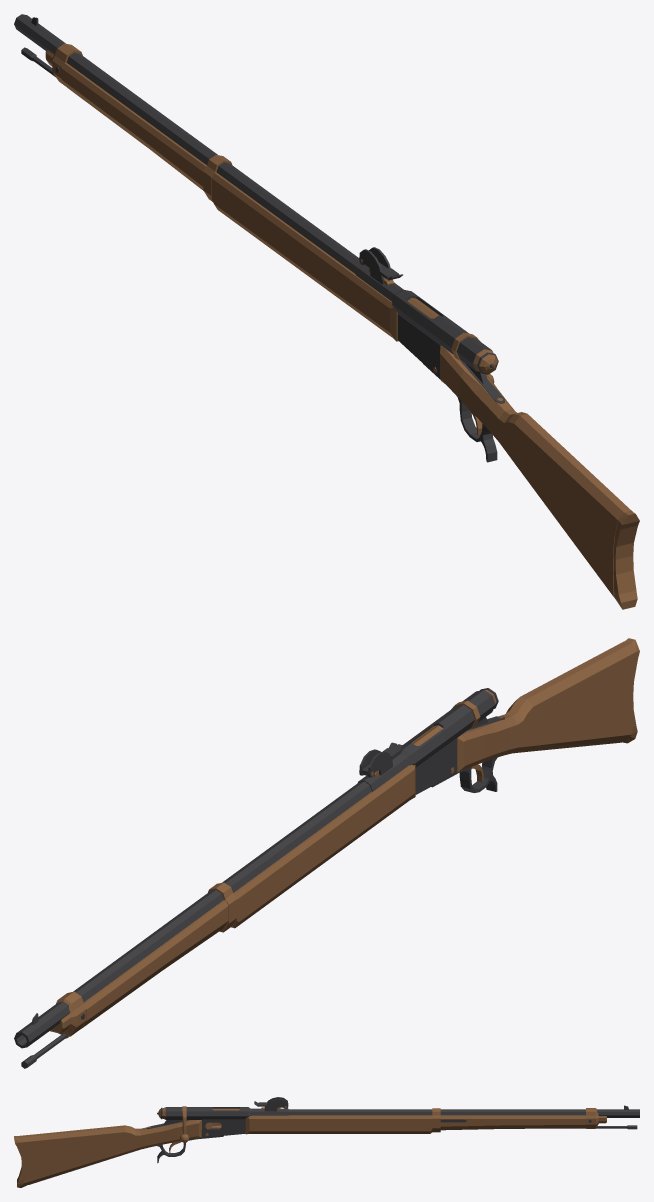
3 renders of one model, top to bottom at view 1: azimuth 30°, elevation 25°; view 2: azimuth 150°, elevation 25°; view 3: azimuth 270°, elevation 25°, orthographic. The views are drawn at different scales.
Parts seen in each view (by area): view 1: vetterli-m78; view 2: vetterli-m78; view 3: vetterli-m78.
Boxes of the visible parts, left/top/right/bottom form: vetterli-m78: left=14, top=14, right=639, bottom=609; vetterli-m78: left=14, top=638, right=639, bottom=1068; vetterli-m78: left=14, top=1097, right=639, bottom=1187.
Size of the model in its own units: 0.0507 by 0.2068 by 1.32.
